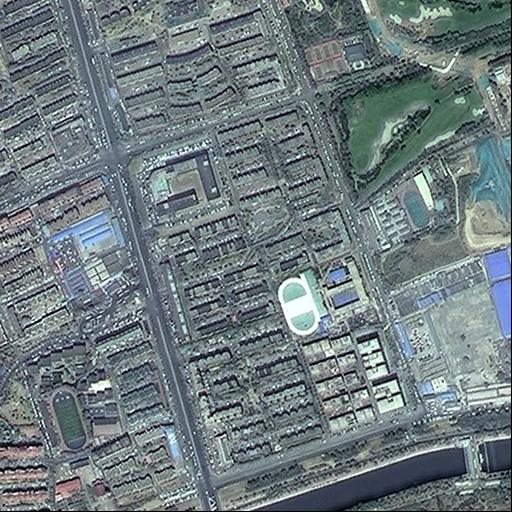school: (21, 339, 121, 462), (271, 250, 385, 342), (368, 169, 440, 244)
